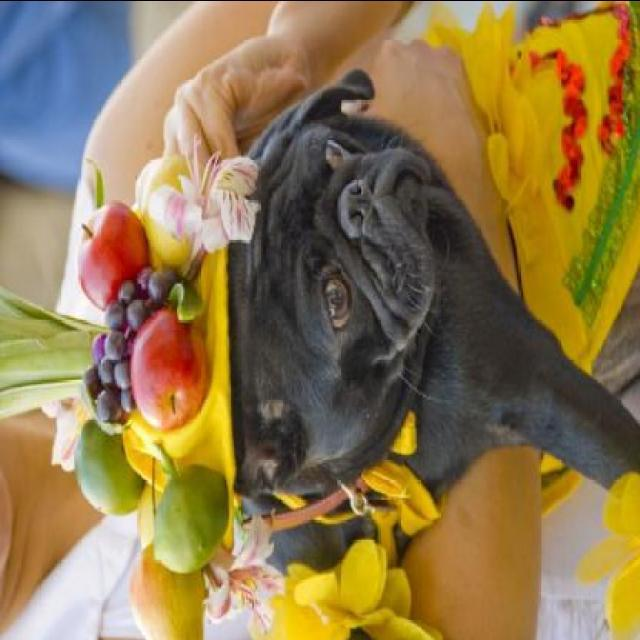Apple pie: (127, 308, 210, 430), (74, 198, 138, 304)
